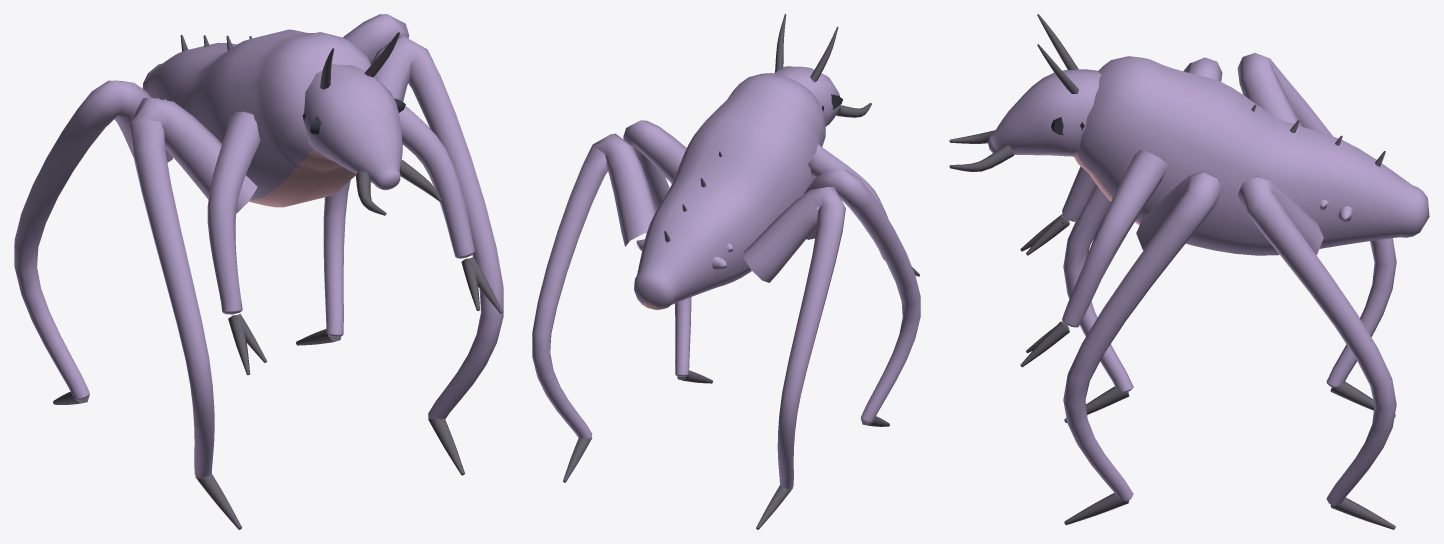
File: xeno-species-and-alien-creatures-insectoid-juvenile-9f2aec48__21133.glb
3 views of the same model, side by side, from view 1: azimuth 30°, elevation 25°; view 2: azimuth 150°, elevation 25°; view 3: azimuth 270°, elevation 25° (orthographic). The views are drawn at different scales.
Parts seen in each view (by area): view 1: insectoid-juvenile; view 2: insectoid-juvenile; view 3: insectoid-juvenile.
Boxes of the visible parts, left/top/right/bottom form: insectoid-juvenile: left=14, top=14, right=503, bottom=529; insectoid-juvenile: left=532, top=14, right=920, bottom=529; insectoid-juvenile: left=949, top=14, right=1429, bottom=529.
Bounding box in the file's own units: 0.7362 × 0.9833 × 0.9622.
